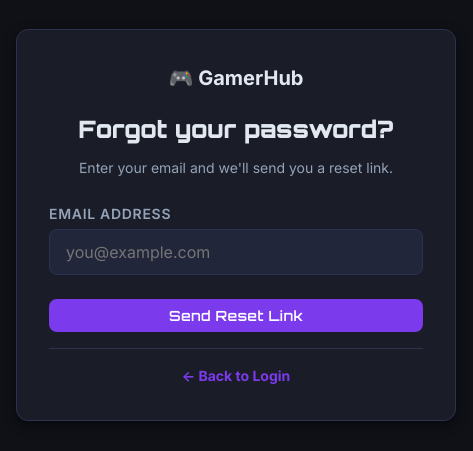
Test: ForgotPasswordPage — validation › shows an error when submitted with an empty email
Click the button "Send Reset Link" at (236, 316), box 49,299 -> 423,332
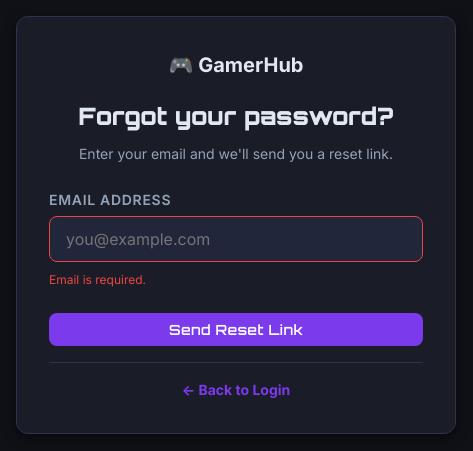
Now the text "Email is required." is shown, box 49,272 -> 146,287
